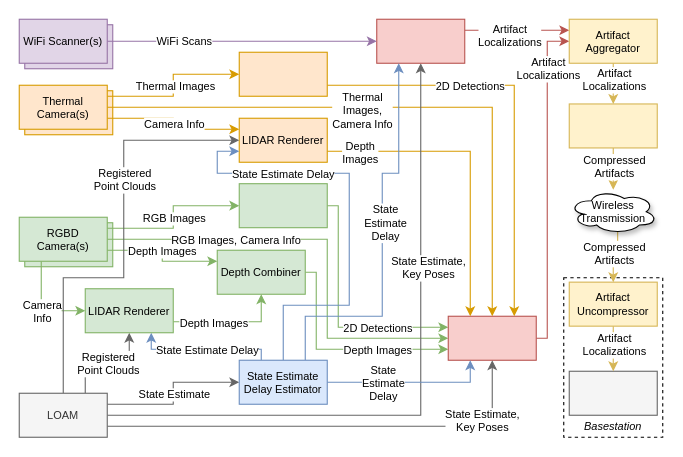
The diagram is 683 pixels wide and 457 high, and some of its shapes have lost their labels. The centre of each missing label's shape, as x and y in pixels:
"Artifact Debouncer & Compressor" belongs at pixel 612 125.
"GUI" belongs at pixel 612 392.
"Object Detection Localizer" belongs at pixel 491 337.
"Object Detector (RGB)" belongs at pixel 282 205.
"Object Detector (Thermal)" belongs at pixel 282 73.
"Signal Localizer" belongs at pixel 420 40.
